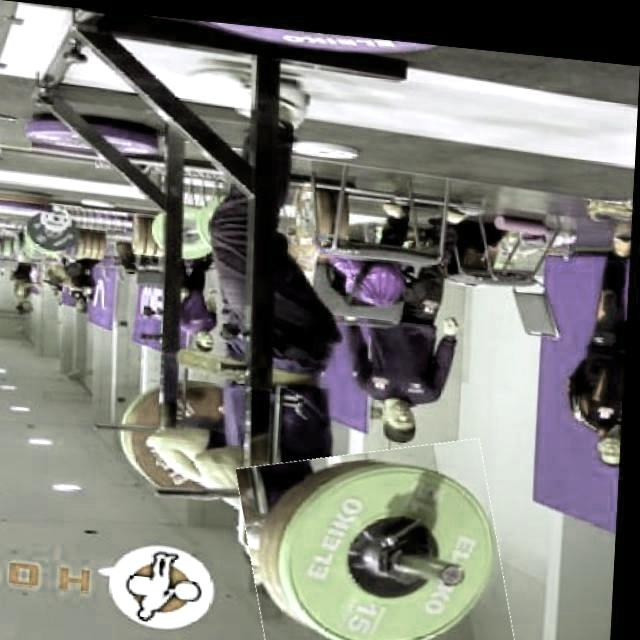barbell: (243, 422, 520, 640)
